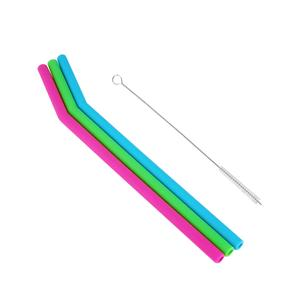Drinking Straw: (36, 52, 247, 265)
